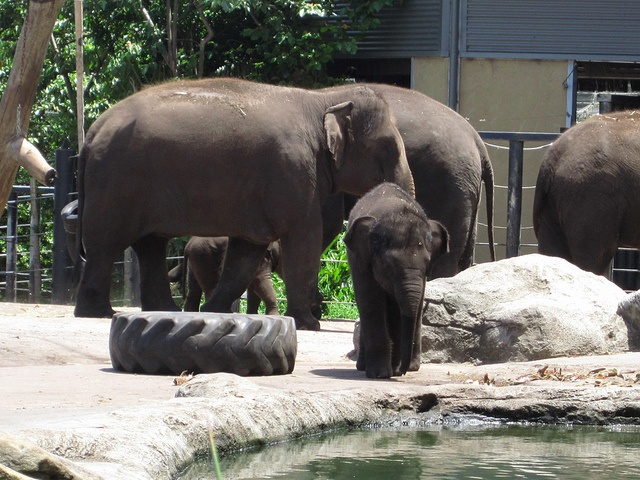elephant: (244, 203, 588, 454), (397, 280, 503, 478)
